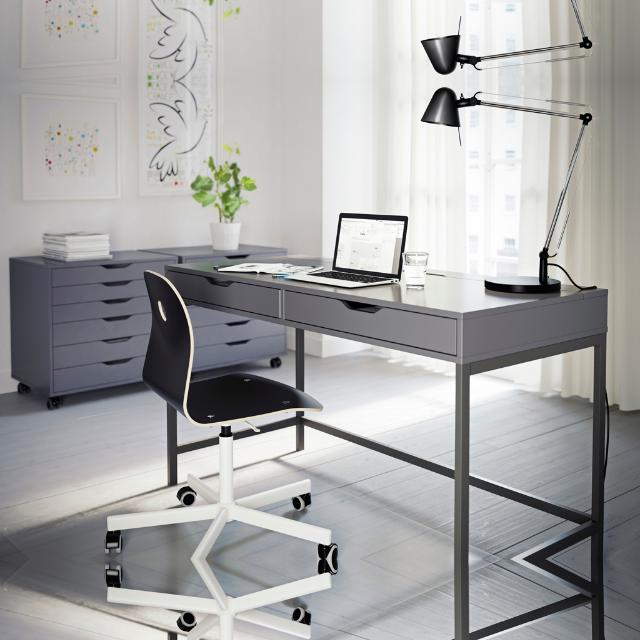obstacle: (103, 252, 615, 558), (103, 558, 615, 640)
